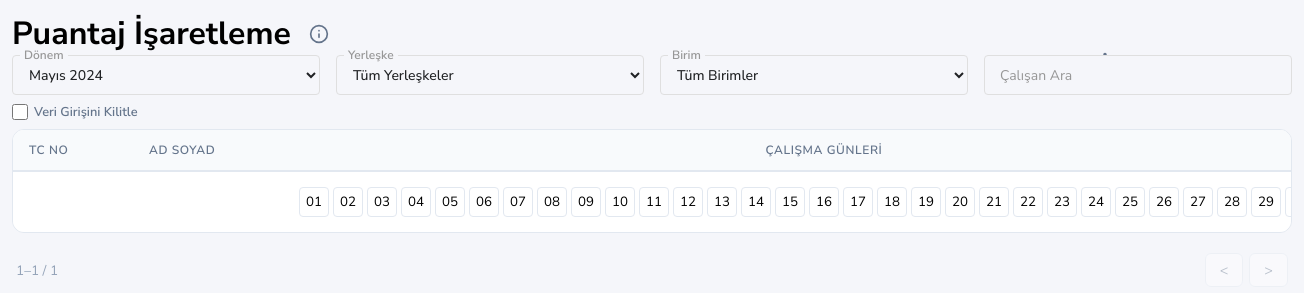
Test: TimesheetPage (Puantaj Yönetimi) › 9. Case: Kilitlenmiş dönemde hücreye tıklanınca uyarı toast göstermeli
Click the button "01".
click(314, 202)  # box [299,187,329,217]
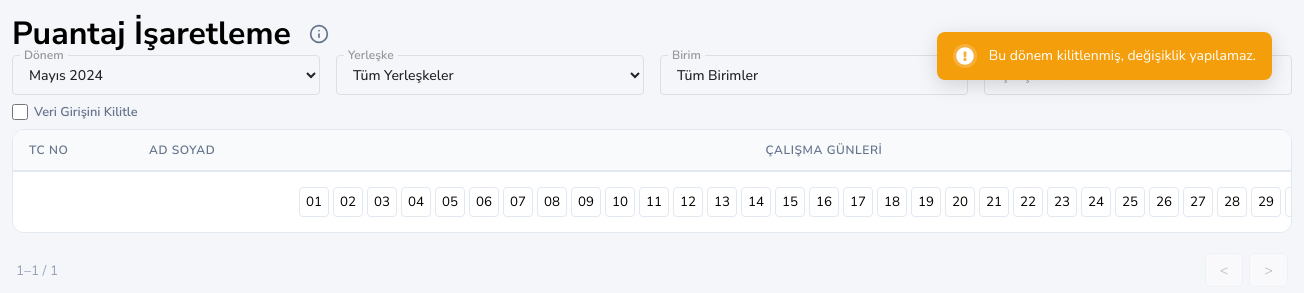
Expected: the text "Bu dönem kilitlenmiş, değişiklik yapılamaz." is shown, [989,46,1256,66]
